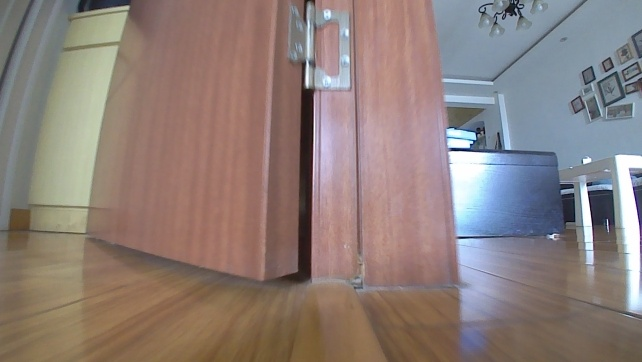door_anno: (83, 0, 374, 293)
sofa1: (553, 164, 641, 228)
